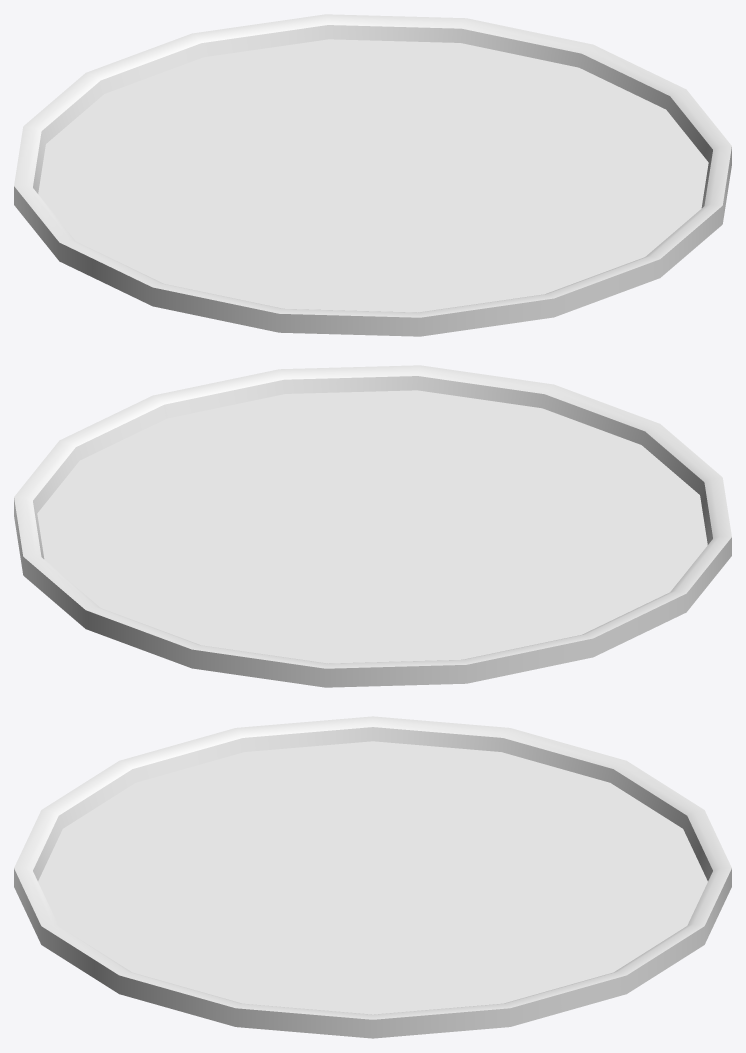
The model's file is LP_wideplate.glb.
3 renders of one model, top to bottom at view 1: azimuth 30°, elevation 25°; view 2: azimuth 150°, elevation 25°; view 3: azimuth 270°, elevation 25°, orthographic.
Visible parts, largest first — view 1: LP_wideplate.001; view 2: LP_wideplate.001; view 3: LP_wideplate.001.
Boxes of the visible parts, x1=… form: LP_wideplate.001: x1=14, y1=14, x2=731, y2=336; LP_wideplate.001: x1=14, y1=365, x2=731, y2=687; LP_wideplate.001: x1=14, y1=716, x2=731, y2=1038.
Bounding box in the file's own units: 0.2377 × 0.00686 × 0.2377.
1 material, 1 textured.
